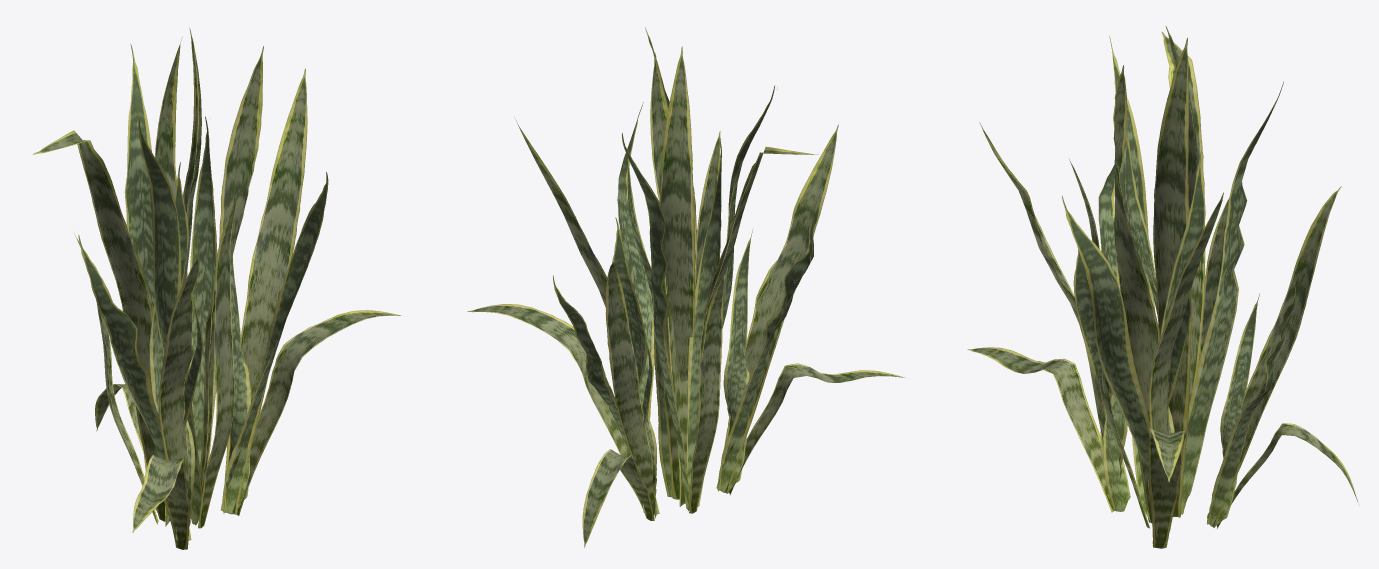
Rendered from SansevieriaTrifasciata.glb.
3 views of the same model, side by side, from view 1: azimuth 30°, elevation 25°; view 2: azimuth 150°, elevation 25°; view 3: azimuth 270°, elevation 25° (orthographic). The views are drawn at different scales.
Parts seen in each view (by area): view 1: Snake_Plant__Realistic_LOD3; view 2: Snake_Plant__Realistic_LOD3; view 3: Snake_Plant__Realistic_LOD3.
Part boxes in pixels (<box>): Snake_Plant__Realistic_LOD3: <box>33,27,401,549</box>; Snake_Plant__Realistic_LOD3: <box>467,27,904,547</box>; Snake_Plant__Realistic_LOD3: <box>967,26,1359,548</box>.
Bounding box in the file's own units: 0.867 × 1.04 × 0.7706.
Materials: 1 (1 with a texture image).
